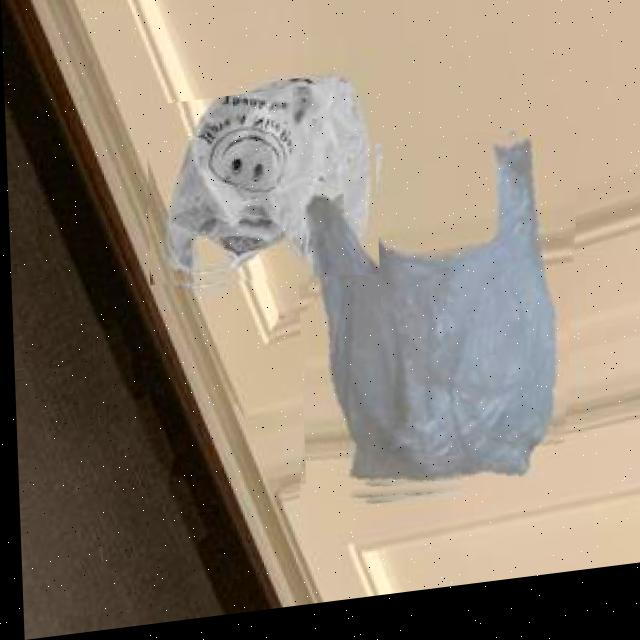litter: (292, 134, 581, 529), (142, 87, 376, 306)
